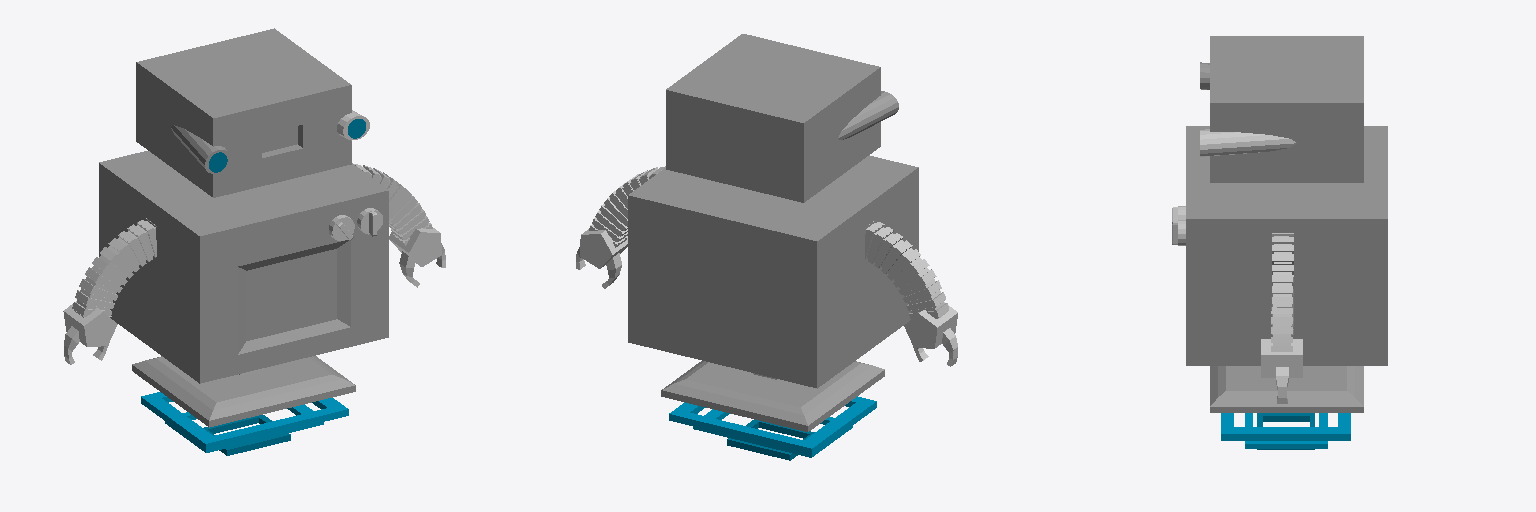
The model's file is irobot.obj.
3 renders of one model, left to right at view 1: azimuth 30°, elevation 25°; view 2: azimuth 150°, elevation 25°; view 3: azimuth 270°, elevation 25°, orthographic.
Parts seen in each view (by area): view 1: Cube, Cube.001, Cube.006_Cube.011, Cube.007_Cube.014, Cube.015_Cube.023, Cube.008_Cube.015, Cylinder.002_Cylinder.003, Cylinder.003_Cylinder.004, Cube.017_Cube.025, Cylinder, Cube.016_Cube.024; view 2: Cube, Cube.001, Cube.006_Cube.011, Cube.007_Cube.014, Cube.015_Cube.023, Cube.008_Cube.015, Cylinder.002_Cylinder.003, Cylinder, Cylinder.003_Cylinder.004, Cube.017_Cube.025, Cube.016_Cube.024; view 3: Cube, Cube.001, Cube.006_Cube.011, Cube.008_Cube.015, Cube.015_Cube.023, Cylinder.001_Cylinder.002, Cylinder.003_Cylinder.004, Cube.016_Cube.024, Cube.017_Cube.025.
Boxes of the visible parts, box(x1,y1,x2,y2) form: Cube: box(99, 151, 388, 383); Cube.001: box(136, 28, 351, 197); Cube.006_Cube.011: box(132, 356, 355, 427); Cube.007_Cube.014: box(72, 218, 156, 317); Cube.015_Cube.023: box(141, 392, 348, 450); Cube.008_Cube.015: box(354, 164, 432, 245); Cylinder.002_Cylinder.003: box(63, 301, 117, 346); Cylinder.003_Cylinder.004: box(389, 228, 441, 266); Cube.017_Cube.025: box(203, 415, 290, 455); Cylinder: box(171, 125, 231, 173); Cube.016_Cube.024: box(165, 404, 323, 452); Cube: box(628, 155, 918, 388); Cube.001: box(666, 34, 880, 202); Cube.006_Cube.011: box(661, 361, 884, 431); Cube.007_Cube.014: box(865, 220, 948, 318); Cube.015_Cube.023: box(669, 396, 876, 454); Cube.008_Cube.015: box(589, 166, 665, 247); Cylinder.002_Cylinder.003: box(904, 302, 957, 348); Cylinder: box(838, 91, 898, 139); Cylinder.003_Cylinder.004: box(580, 229, 627, 268); Cube.017_Cube.025: box(727, 419, 814, 460); Cube.016_Cube.024: box(693, 409, 852, 457); Cube: box(1186, 126, 1387, 365); Cube.001: box(1210, 36, 1363, 182); Cube.006_Cube.011: box(1210, 366, 1363, 412); Cube.008_Cube.015: box(1271, 233, 1293, 351); Cube.015_Cube.023: box(1221, 413, 1350, 440); Cylinder.001_Cylinder.002: box(1200, 129, 1296, 156); Cylinder.003_Cylinder.004: box(1261, 339, 1302, 377); Cube.016_Cube.024: box(1245, 413, 1327, 448); Cube.017_Cube.025: box(1257, 413, 1314, 449).
Bounding box in the file's own units: 3.99 × 3.67 × 1.97.